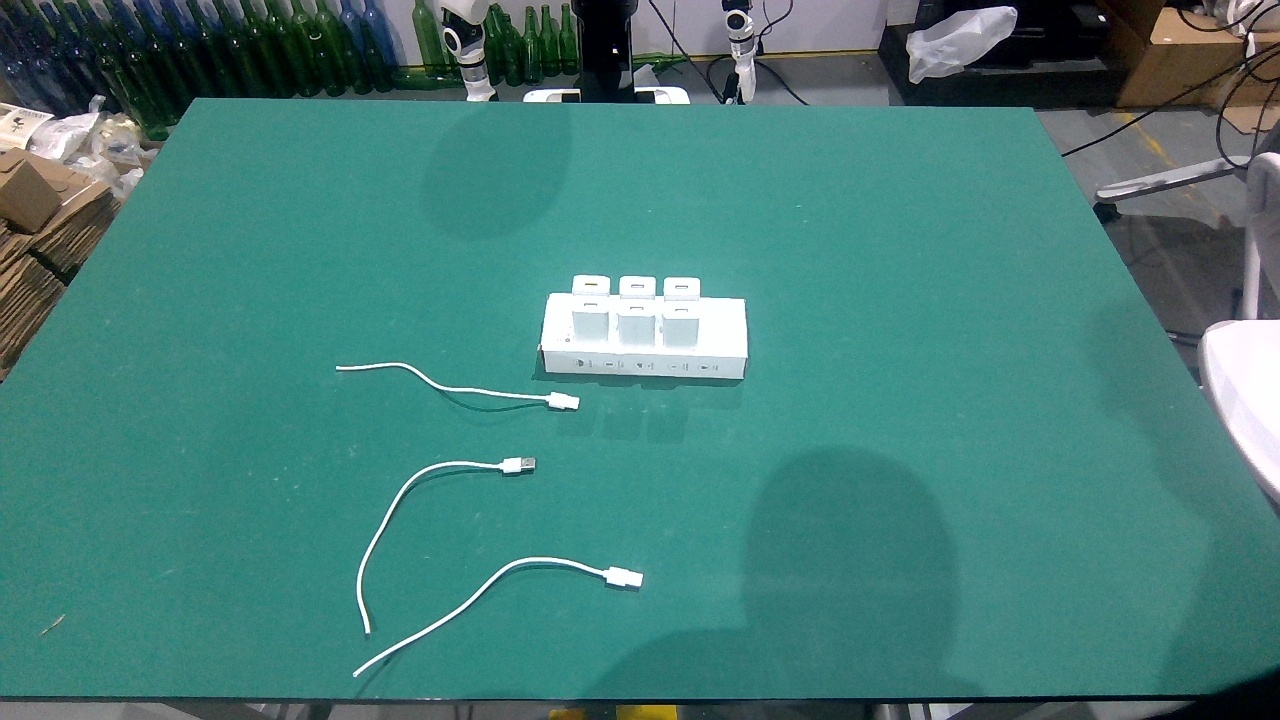usb_a_plug: (571, 560, 661, 594), (474, 453, 548, 476), (528, 389, 588, 412)
